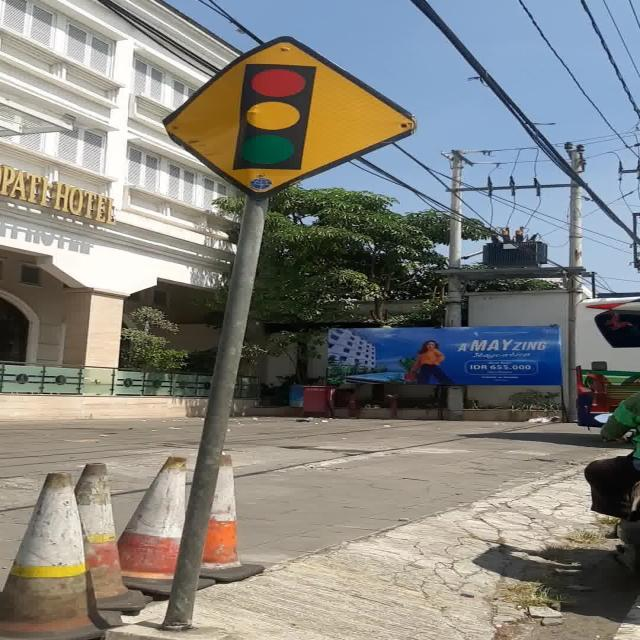Lampu Lalu Lintas: (161, 36, 415, 200)
